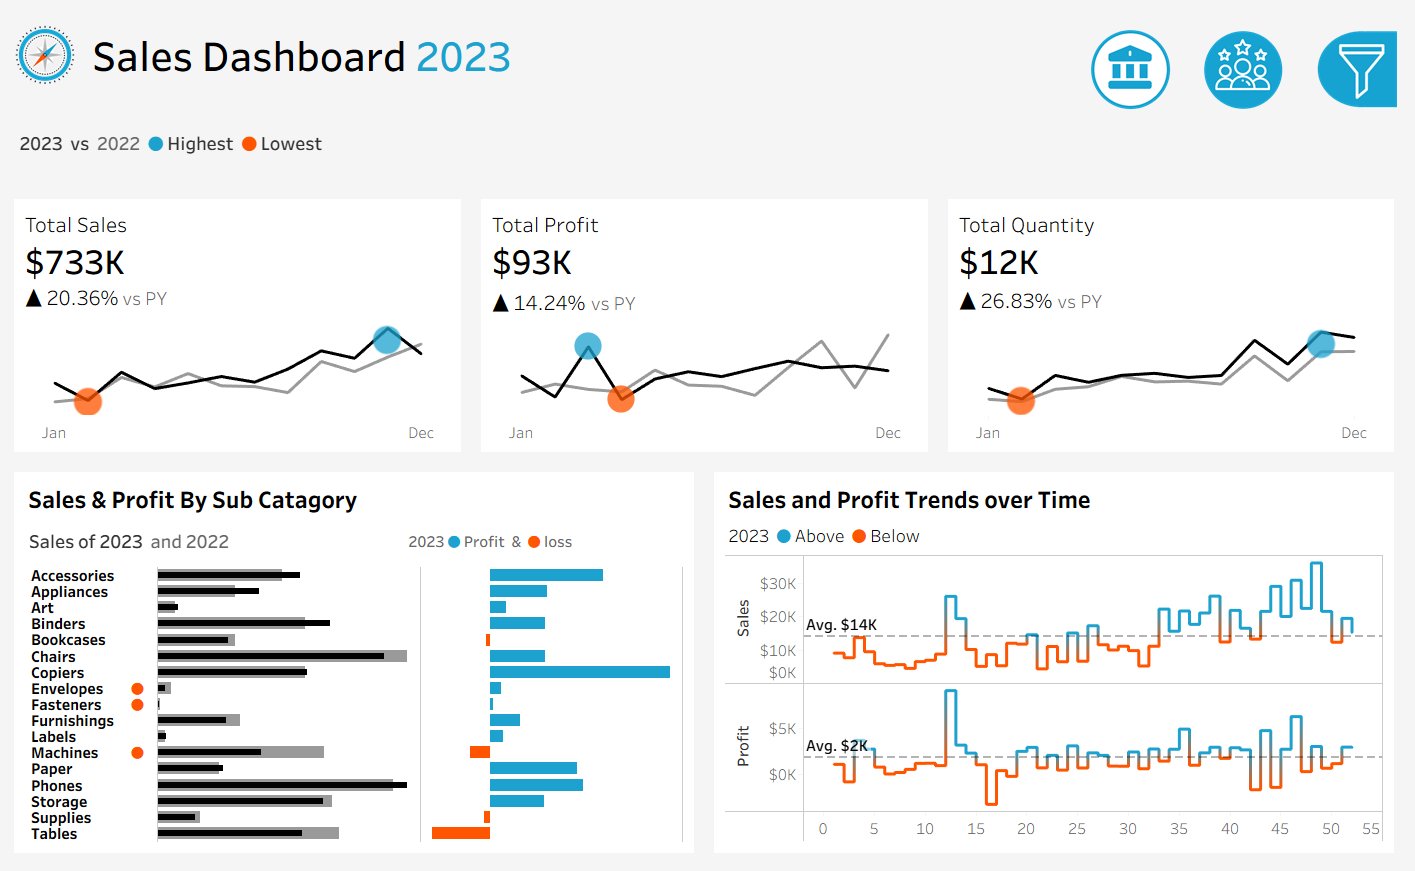

The page's visual inventory and layout, read from the dashboard file:
{"tool":"tableau","page":{"name":"Sales Dashboard","canvas":[1400,850],"ordinal":1},"visuals":[{"type":"image","param":"C:/data science/Tableau/sales-dashboard-project/sales-dashboard-project/images/I","box":[0,0,81,84]},{"type":"text","box":[81,0,822,84]},{"type":"dashboard-object","box":[1070,12,113,89]},{"type":"blank","box":[1075,12,310,173]},{"type":"dashboard-object","box":[1183,12,113,89]},{"type":"worksheet","title":"Lengend-KPI","mark":"Automatic","box":[0,84,1400,92]},{"type":"worksheet","title":"KPI Sales","mark":"Automatic","rows":["Calculation_1470872950730756"],"cols":["Order Date"],"box":[0,176,467,273]},{"type":"worksheet","title":"KPI Profit","mark":"Automatic","rows":["Calculation_1073674560065543"],"cols":["Order Date"],"box":[467,176,467,273]},{"type":"worksheet","title":"KPI Quantity","mark":"Automatic","rows":["Calculation_1427992223645699"],"cols":["Order Date"],"box":[934,176,466,273]},{"type":"text","box":[1075,185,310,33]},{"type":"parameter","param":"[Parameters].[Parameter 1]","box":[1075,218,310,56]},{"type":"text","box":[1075,274,310,42]},{"type":"filter","title":"KPI Sales","param":"[federated.15w8pxc0wz6nvw103faom127oov1].[none:Category:nk]","box":[1075,316,310,61]},{"type":"filter","title":"KPI Sales","param":"[federated.15w8pxc0wz6nvw103faom127oov1].[none:Sub-Category:nk]","box":[1075,377,310,61]},{"type":"blank","box":[1075,438,310,32]},{"type":"text","box":[17,466,666,40]},{"type":"text","box":[717,466,666,40]},{"type":"text","box":[1075,470,310,33]},{"type":"filter","title":"KPI Sales","param":"[federated.15w8pxc0wz6nvw103faom127oov1].[none:Region:nk]","box":[1075,503,310,61]},{"type":"worksheet","title":"Legend-Sub Catogory","mark":"Automatic","box":[17,506,380,44]},{"type":"text","box":[397,506,286,44]},{"type":"text","box":[717,506,666,32]},{"type":"worksheet","title":"Weekly Trends","mark":"Line","rows":["Calculation_1470872933638145","Calculation_1073674556825604"],"cols":["Order Date"],"box":[717,538,666,295]},{"type":"worksheet","title":"SubCatagory ","mark":"Bar","rows":["Sub-Category","Calculation_1146517310816256"],"cols":["Calculation_1470872934166530","Calculation_1470872933638145","Calculation_1073674556825604"],"box":[17,550,666,282.9]},{"type":"filter","title":"KPI Sales","param":"[federated.15w8pxc0wz6nvw103faom127oov1].[none:State:nk]","box":[1075,564,310,61]},{"type":"filter","title":"KPI Sales","param":"[federated.15w8pxc0wz6nvw103faom127oov1].[none:City:nk]","box":[1075,625,310,61]}]}

Visuals, with their boxes in screenshot pixels (x1, y1, x2, y2), scaled from the page's 1400x850 canvas onto the 1415x871 screenshot:
image: Rect(0, 0, 82, 86)
text: Rect(82, 0, 913, 86)
dashboard-object: Rect(1081, 12, 1196, 103)
blank: Rect(1087, 12, 1400, 190)
dashboard-object: Rect(1196, 12, 1310, 103)
"Lengend-KPI" worksheet: Rect(0, 86, 1414, 180)
"KPI Sales" worksheet: Rect(0, 180, 472, 460)
"KPI Profit" worksheet: Rect(472, 180, 944, 460)
"KPI Quantity" worksheet: Rect(944, 180, 1414, 460)
text: Rect(1087, 190, 1400, 223)
parameter: Rect(1087, 223, 1400, 281)
text: Rect(1087, 281, 1400, 324)
"KPI Sales" filter: Rect(1087, 324, 1400, 386)
"KPI Sales" filter: Rect(1087, 386, 1400, 449)
blank: Rect(1087, 449, 1400, 482)
text: Rect(17, 478, 690, 519)
text: Rect(725, 478, 1398, 519)
text: Rect(1087, 482, 1400, 515)
"KPI Sales" filter: Rect(1087, 515, 1400, 578)
"Legend-Sub Catogory" worksheet: Rect(17, 519, 401, 564)
text: Rect(401, 519, 690, 564)
text: Rect(725, 519, 1398, 551)
"Weekly Trends" worksheet (Line marks): Rect(725, 551, 1398, 854)
"SubCatagory " worksheet (Bar marks): Rect(17, 564, 690, 853)
"KPI Sales" filter: Rect(1087, 578, 1400, 640)
"KPI Sales" filter: Rect(1087, 640, 1400, 703)
